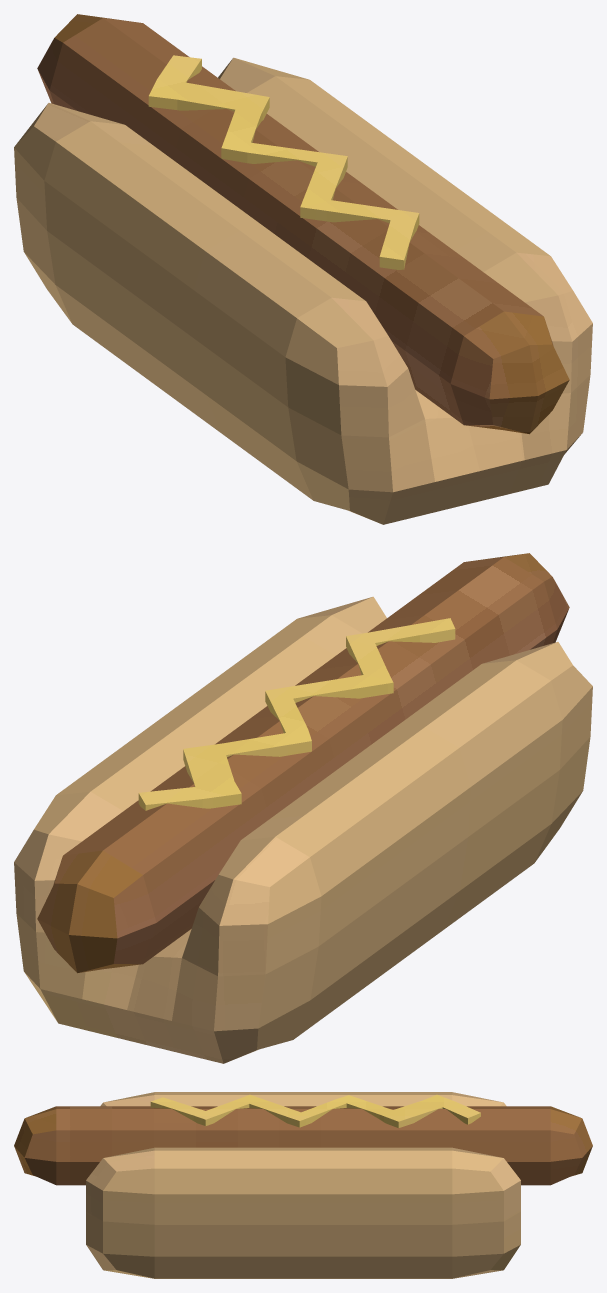
3 renders of one model, top to bottom at view 1: azimuth 30°, elevation 25°; view 2: azimuth 150°, elevation 25°; view 3: azimuth 270°, elevation 25°, orthographic. The views are drawn at different scales.
Visible parts, largest first — view 1: Cube.016_Cube.026; view 2: Cube.016_Cube.026; view 3: Cube.016_Cube.026.
Part boxes in pixels (x1,y1,x2,y2): Cube.016_Cube.026: (14, 14, 592, 524); Cube.016_Cube.026: (14, 553, 592, 1063); Cube.016_Cube.026: (14, 1092, 592, 1278).
Size of the model in its own units: 0.4743 by 0.3865 by 1.39.
Materials: 1 (1 with a texture image).
